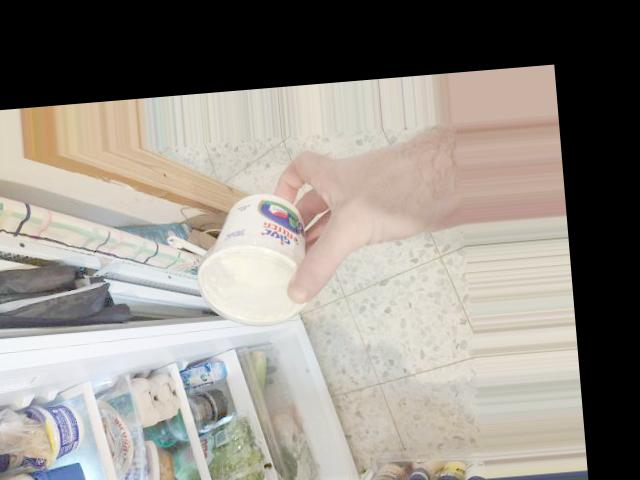cotage: (198, 189, 318, 318)
